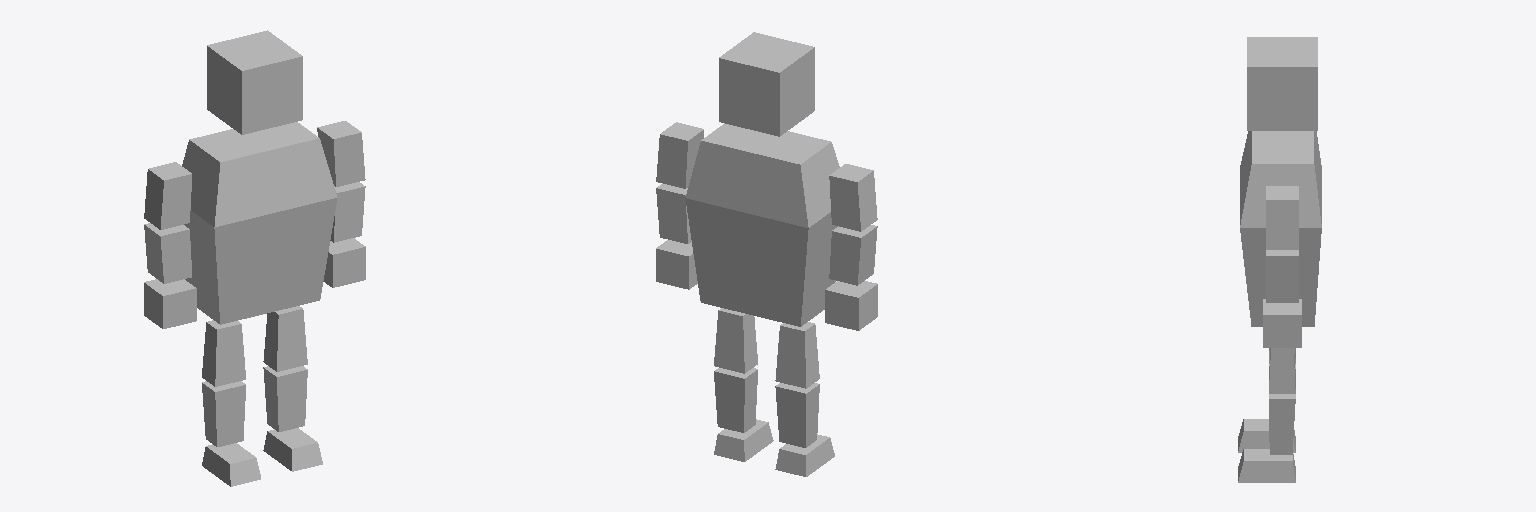
File: Strike01.obj
The picture shows the model from 3 angles: view 1: azimuth 30°, elevation 25°; view 2: azimuth 150°, elevation 25°; view 3: azimuth 270°, elevation 25°; orthographic projection.
Visible parts, largest first — view 1: Strike01; view 2: Strike01; view 3: Strike01.
Boxes of the visible parts, <box> form: Strike01: <box>144,30,365,486</box>; Strike01: <box>656,32,877,476</box>; Strike01: <box>1238,37,1321,482</box>.
Bounding box in the file's own units: 0.6312 × 1.2 × 0.2236.